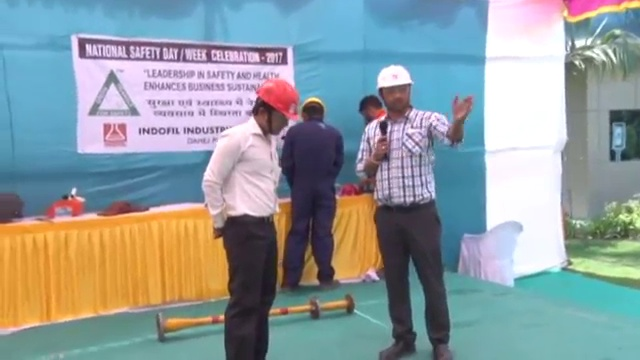helmet: (257, 78, 299, 121), (373, 64, 415, 91), (299, 96, 327, 114)
helmet_off: (355, 93, 387, 122)
helmet_on: (249, 77, 301, 142), (373, 63, 416, 119), (299, 97, 328, 127)
person: (356, 63, 478, 360), (203, 76, 299, 360), (282, 96, 346, 294)
